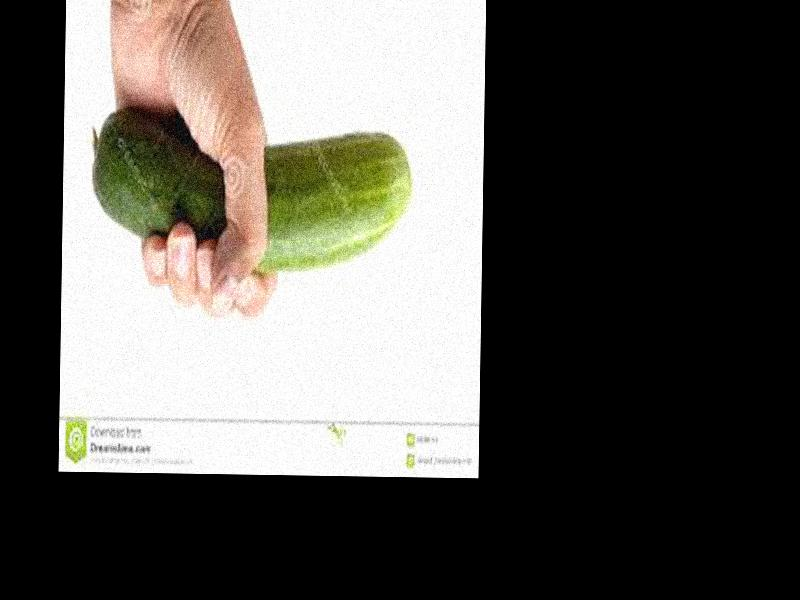Cucumber: (93, 109, 413, 277)
